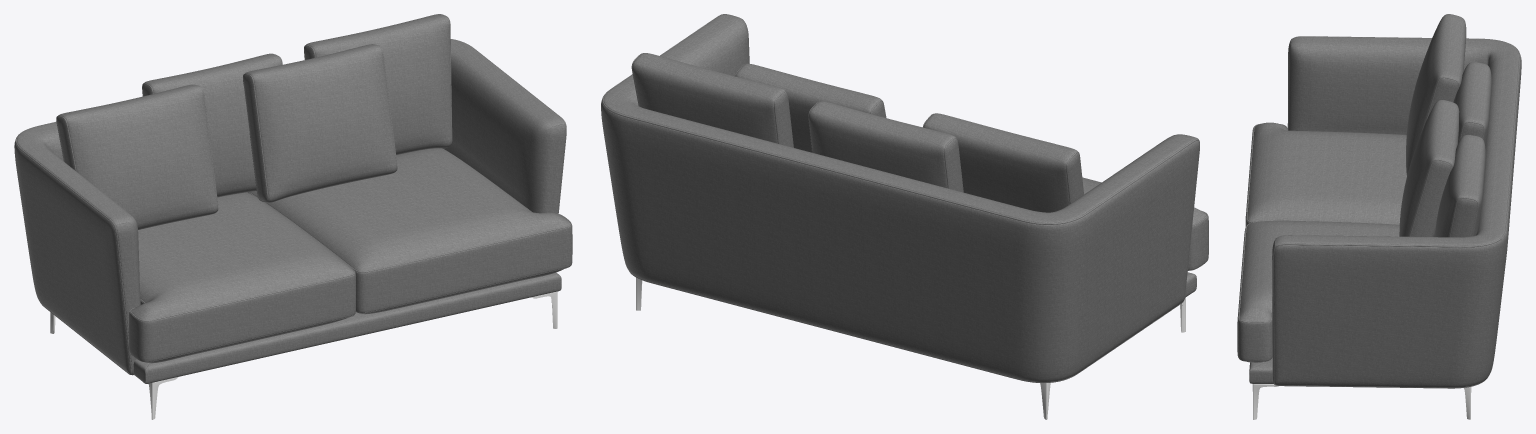
File: obj_sofa_aura_2_5_seats_1582bd.glb
3 views of the same model, side by side, from view 1: azimuth 30°, elevation 25°; view 2: azimuth 150°, elevation 25°; view 3: azimuth 270°, elevation 25° (orthographic). The views are drawn at different scales.
Visible parts, largest first — view 1: obj_sofa_aura_2_5_seats_1582bd; view 2: obj_sofa_aura_2_5_seats_1582bd; view 3: obj_sofa_aura_2_5_seats_1582bd.
Boxes of the visible parts, left/top/right/bottom form: obj_sofa_aura_2_5_seats_1582bd: left=14, top=14, right=572, bottom=419; obj_sofa_aura_2_5_seats_1582bd: left=601, top=14, right=1208, bottom=419; obj_sofa_aura_2_5_seats_1582bd: left=1237, top=14, right=1521, bottom=419.
Bounding box in the file's own units: 2.1 × 1.04 × 1.19.
Materials: 2 (1 with a texture image).
